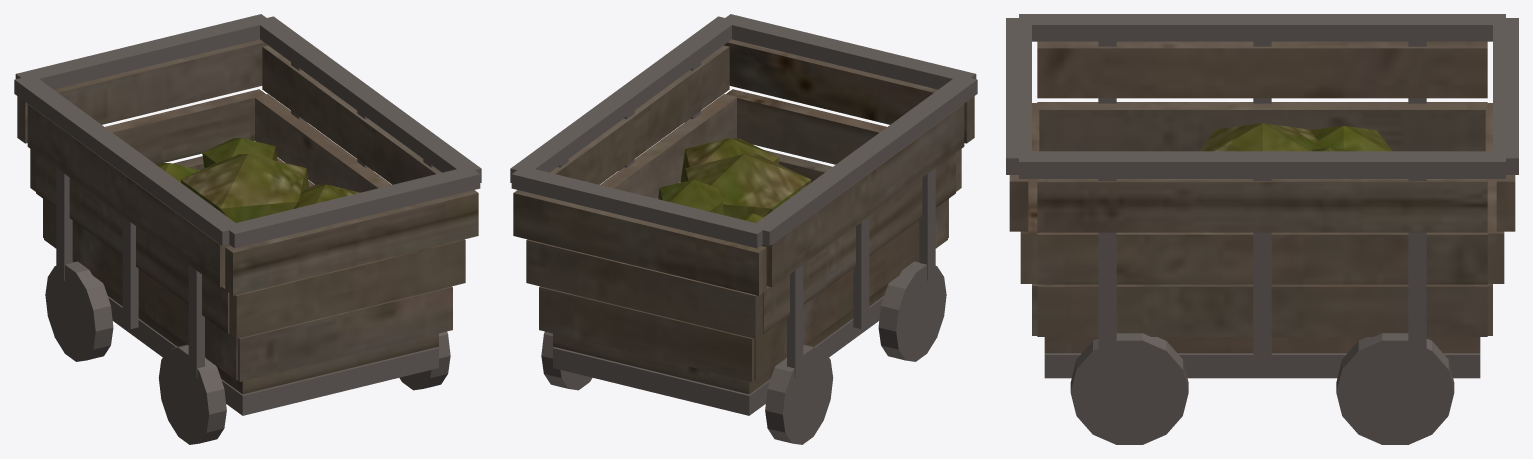
The model's file is vagoneta_mina.glb.
3 views of the same model, side by side, from view 1: azimuth 30°, elevation 25°; view 2: azimuth 150°, elevation 25°; view 3: azimuth 270°, elevation 25° (orthographic). The views are drawn at different scales.
Visible parts, largest first — view 1: VagonetaMina; view 2: VagonetaMina; view 3: VagonetaMina.
Part boxes in pixels (box(x1,y1,x2,y2)): VagonetaMina: box(14, 14, 481, 444); VagonetaMina: box(510, 14, 977, 444); VagonetaMina: box(1006, 14, 1518, 444).
Bounding box in the file's own units: 0.95 × 0.861 × 1.39.
3 materials, 2 textured.
